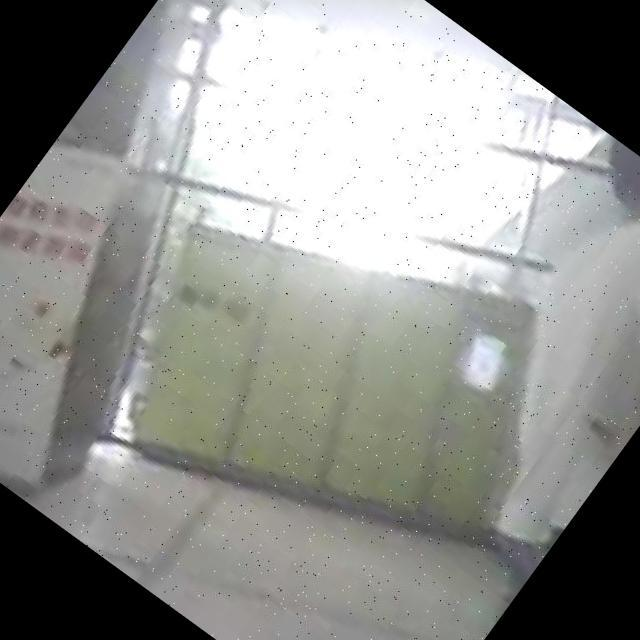person: (351, 138, 640, 612)
